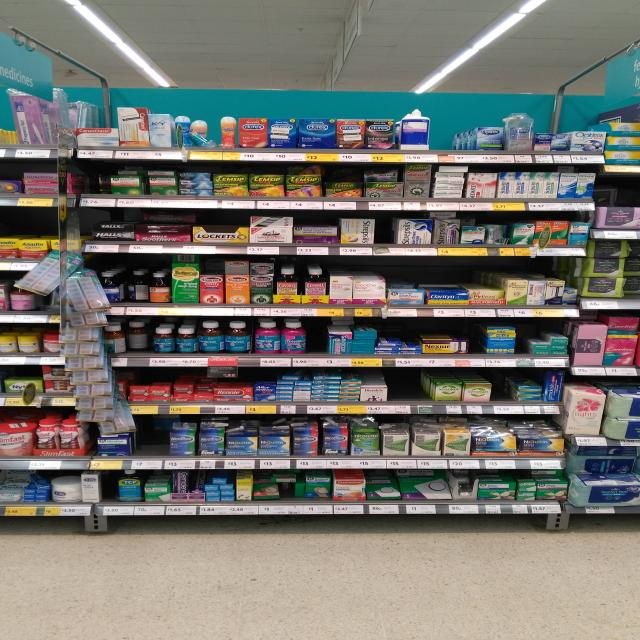unorganised: (252, 475, 303, 500), (395, 215, 432, 246), (339, 216, 375, 247), (190, 366, 253, 382), (476, 124, 506, 155), (125, 265, 149, 303), (187, 117, 213, 147), (127, 321, 151, 353), (433, 218, 460, 246), (626, 251, 640, 297), (487, 223, 510, 246), (363, 170, 400, 183), (434, 162, 470, 175), (278, 374, 301, 393)
